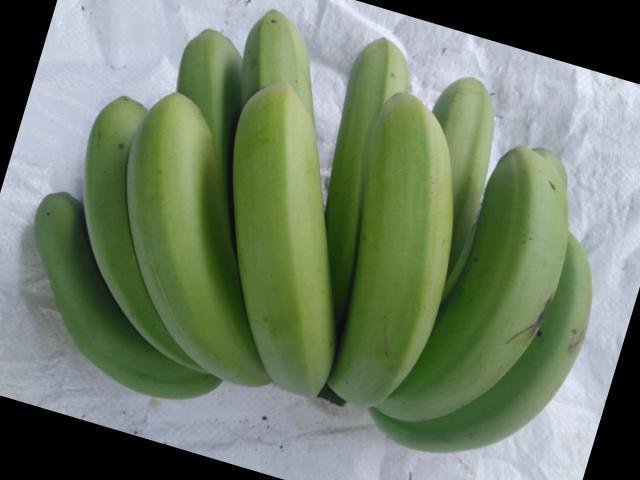freshunripe: (120, 99, 277, 420), (422, 134, 574, 414), (329, 87, 461, 407), (221, 79, 343, 407), (27, 188, 138, 418), (77, 84, 163, 353), (311, 26, 419, 155), (171, 15, 250, 127), (426, 70, 506, 169), (241, 5, 312, 109)
